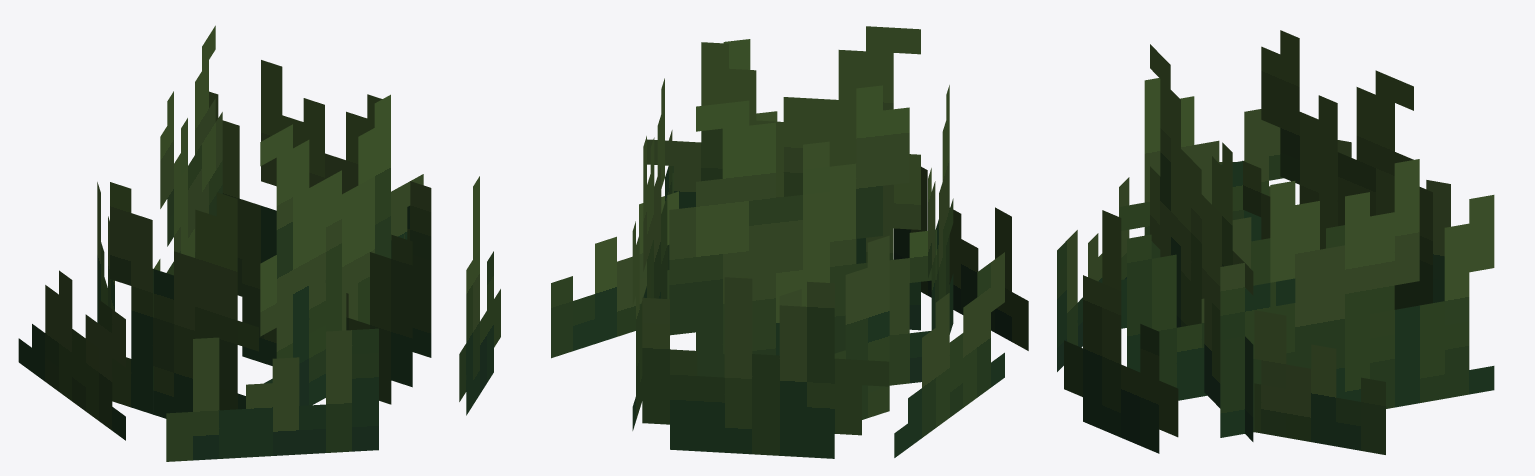
The model's file is grass-1.gltf.
3 renders of one model, left to right at view 1: azimuth 30°, elevation 25°; view 2: azimuth 150°, elevation 25°; view 3: azimuth 270°, elevation 25°, orthographic. The views are drawn at different scales.
Parts seen in each view (by area): view 1: cube (×9); view 2: cube (×10); view 3: cube (×9).
Part boxes in pixels (box(x1,y1,x2,y2)): cube (×9): box(18, 25, 500, 461); cube (×10): box(551, 26, 1028, 458); cube (×9): box(1057, 30, 1494, 454).
Size of the model in its own units: 0.9756 by 0.7594 by 1.08.
1 material, 1 textured.
